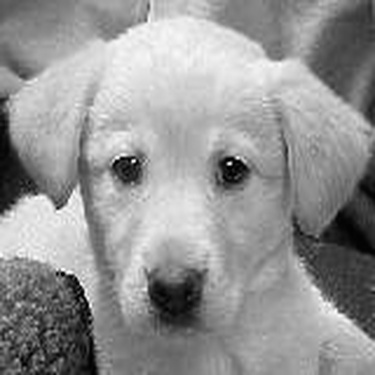dog: (4, 13, 371, 374)
